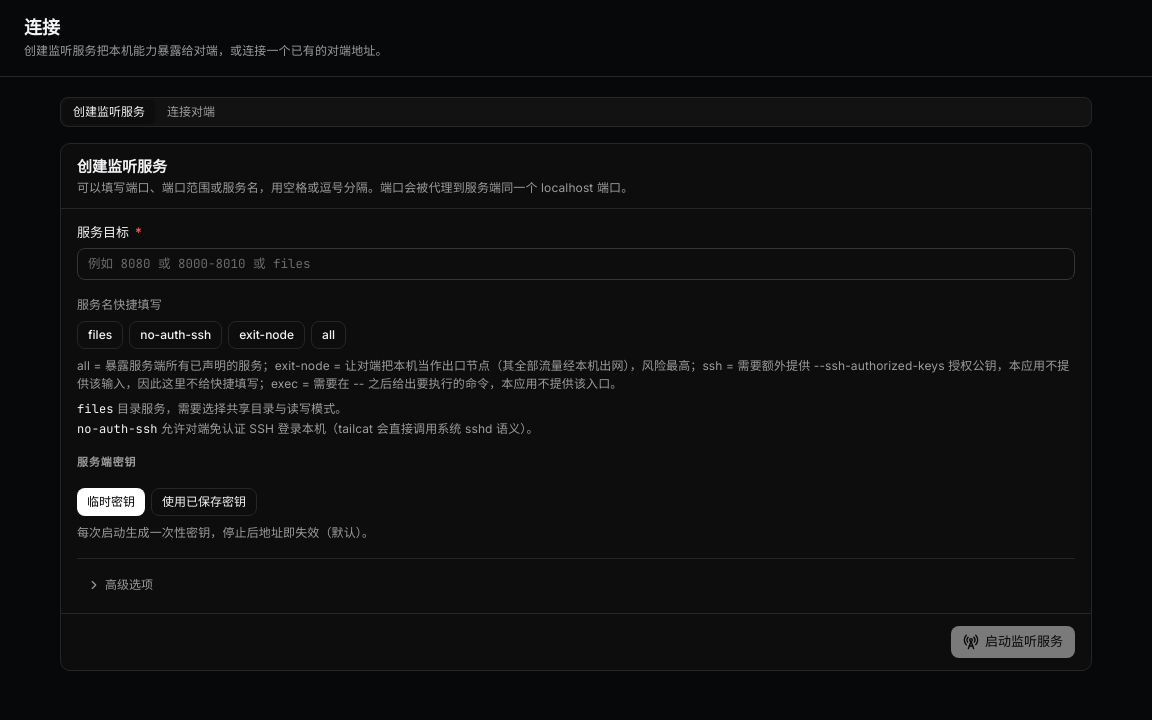
Test: ConnectionsScreen › verifies a peer address and reports parse results
Press the mouse on the tab "连接对端" at (191, 112), box [157,100,225,124]
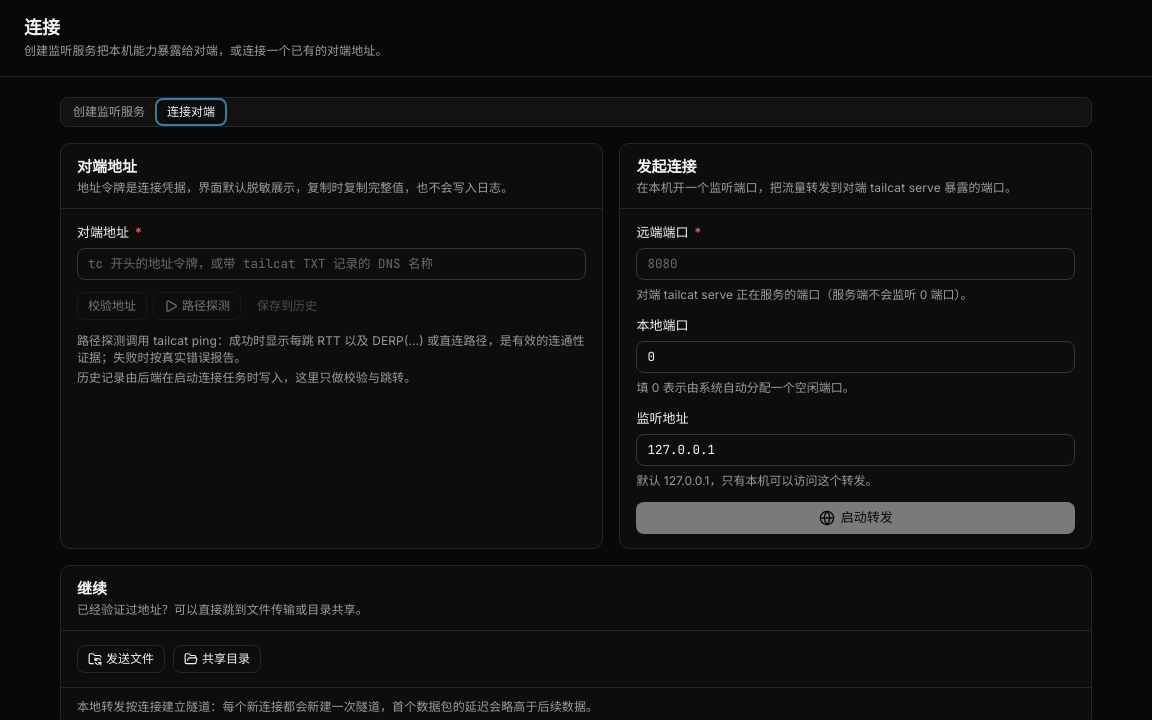
Type "tcABCDEFGHIJKLMNOPQRSTUVWXYZ0123456789abcdefghijklmnop" into the field labelled "对端地址 *" at (332, 264), box [77,248,586,280]
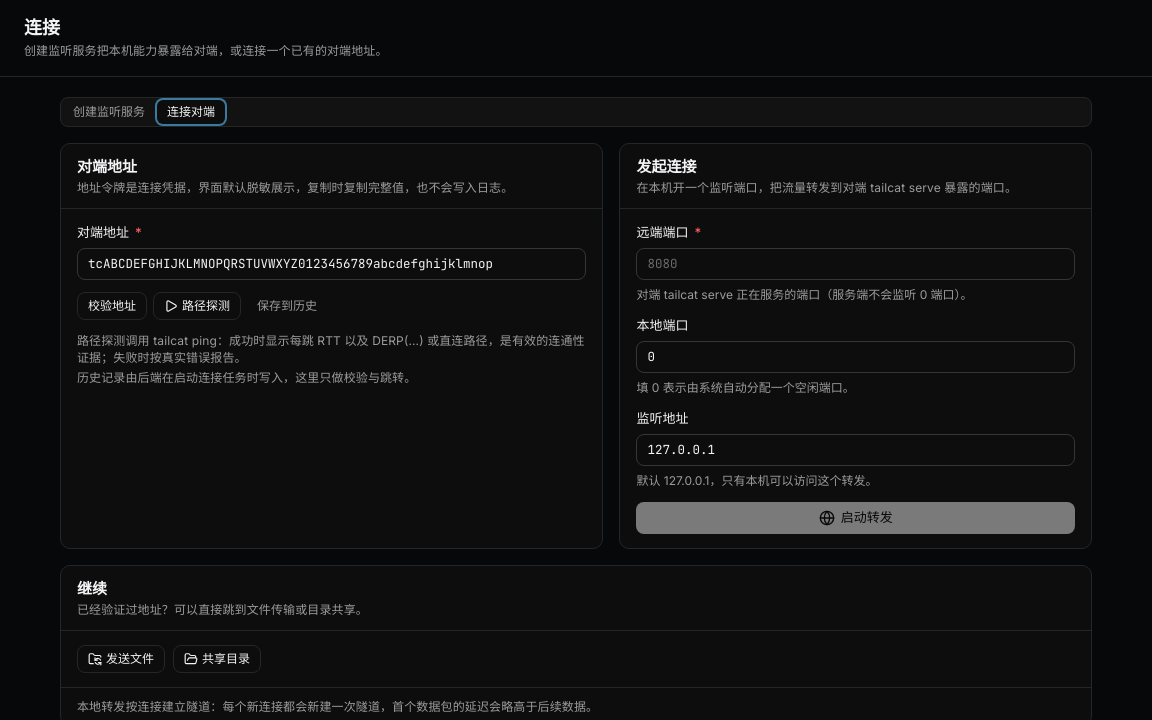
Click the button "校验地址" at (112, 306), box [77,292,147,320]
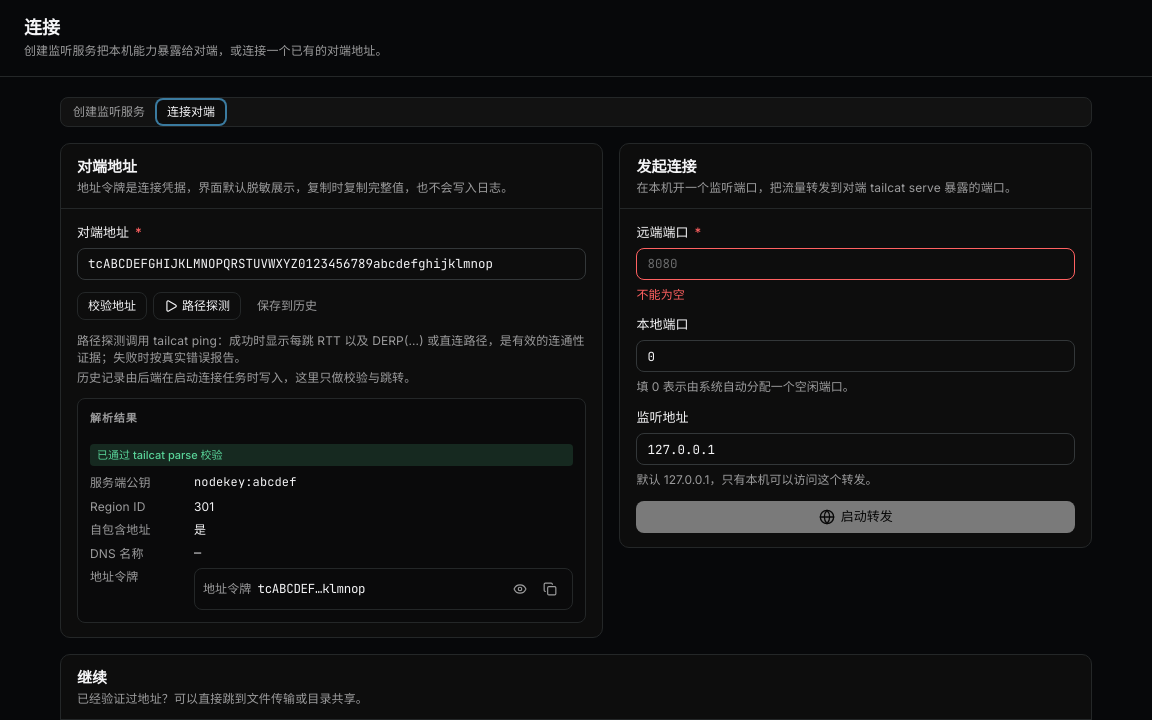
Expected: the heading "解析结果" is shown, [90,411,138,426]
Expected: the text "nodekey:abcdef" is shown, [194,474,296,490]
Expected: the text "301" is shown, [194,499,214,514]
